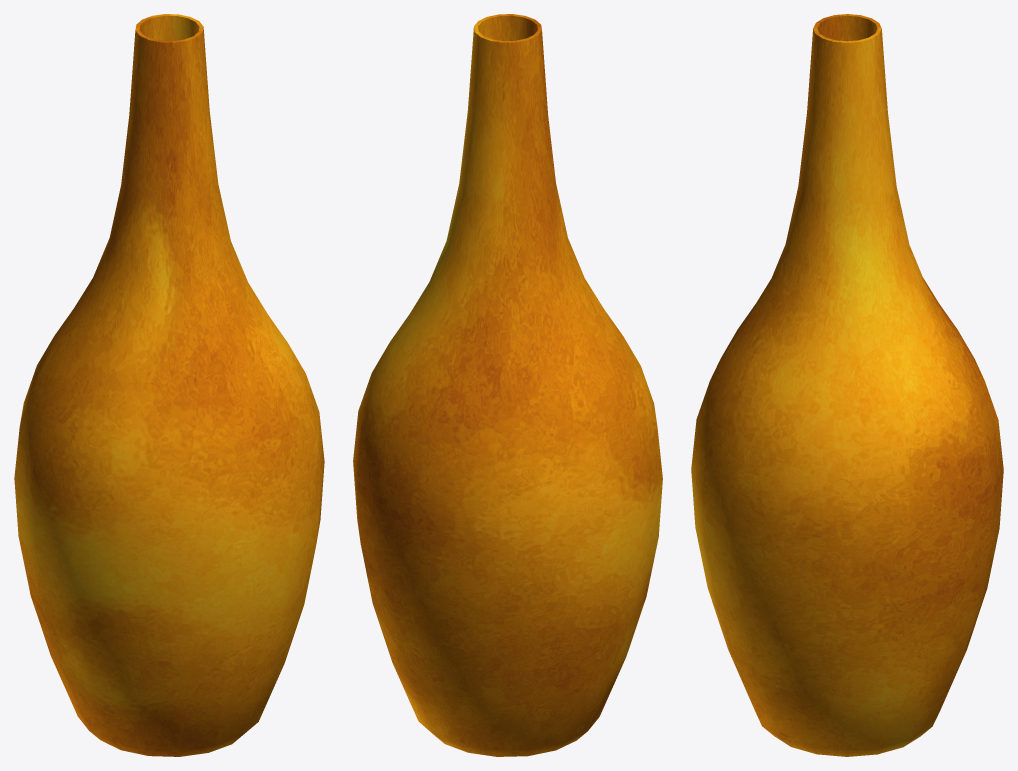
The model's file is Vase1.FBX.
3 renders of one model, left to right at view 1: azimuth 30°, elevation 25°; view 2: azimuth 150°, elevation 25°; view 3: azimuth 270°, elevation 25°, orthographic.
Parts seen in each view (by area): view 1: Vase 1; view 2: Vase 1; view 3: Vase 1.
Boxes of the visible parts, x1,y1,x2,y2 form: Vase 1: [14, 14, 324, 756]; Vase 1: [353, 14, 662, 756]; Vase 1: [691, 14, 1003, 756].
Bounding box in the file's own units: 24.95 × 61.2 × 24.95.
Materials: 1 (1 with a texture image).
